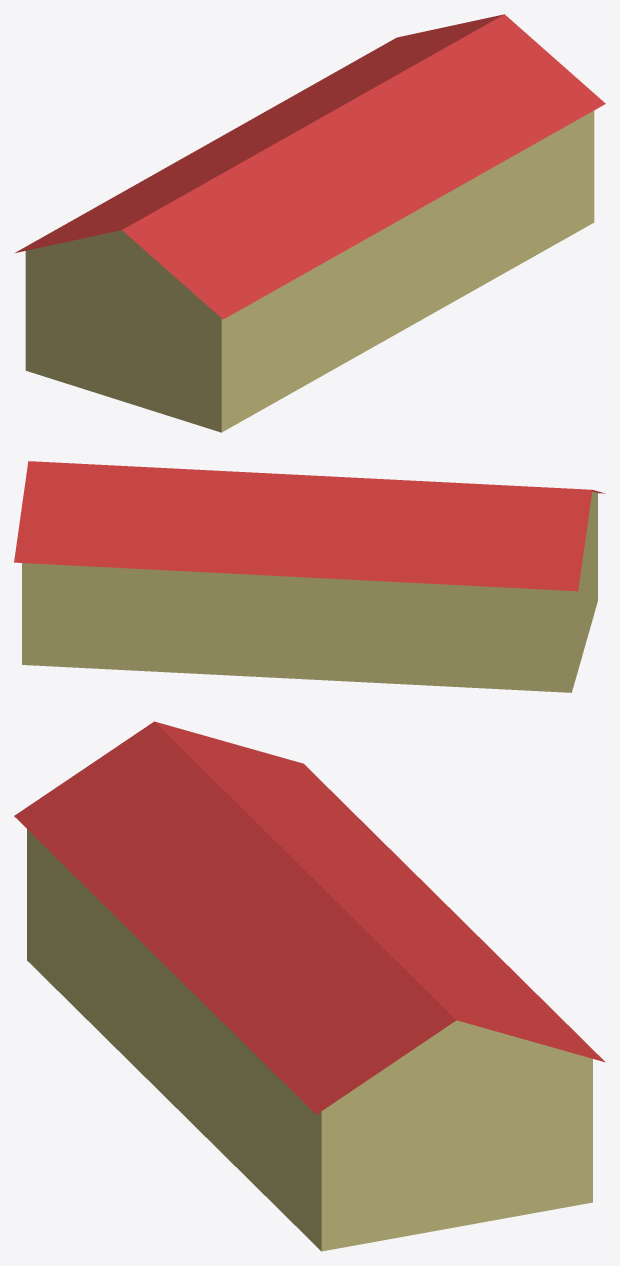
The picture shows the model from 3 angles, top to bottom: view 1: azimuth 30°, elevation 25°; view 2: azimuth 150°, elevation 25°; view 3: azimuth 270°, elevation 25°; orthographic projection. The views are drawn at different scales.
Bounding box in the file's own units: 20.91 × 14.9 × 5.87.
